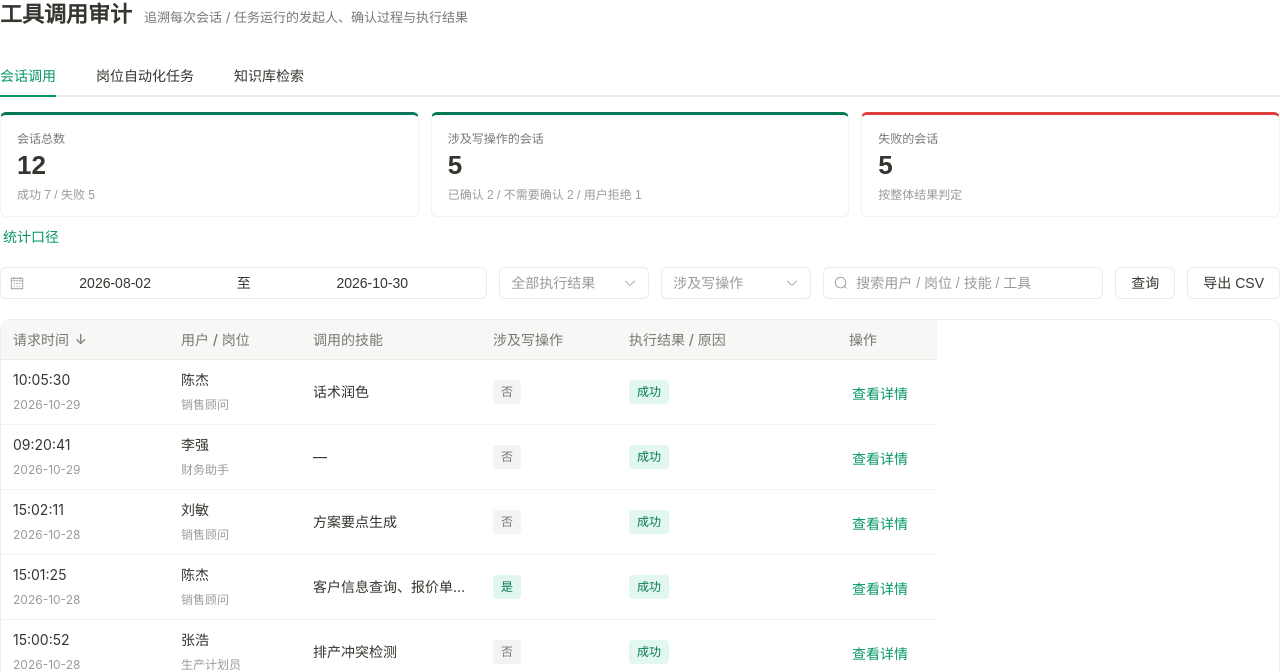
Scenario: 详情抽屉（§5.1 / §5.2 / §5.3） › 确认被用户拒绝的写操作（报销单提交）：不展示确认标签，由执行结果=失败 + 原因"用户取消本次操作"表达
This screenshot has width=1280, height=672.
Type "报销单提交" into the field with placeholder "搜索用户 / 岗位 / 技能 / 工具".
click(974, 283); type("报销单提交")  # box [856,268,1092,298]
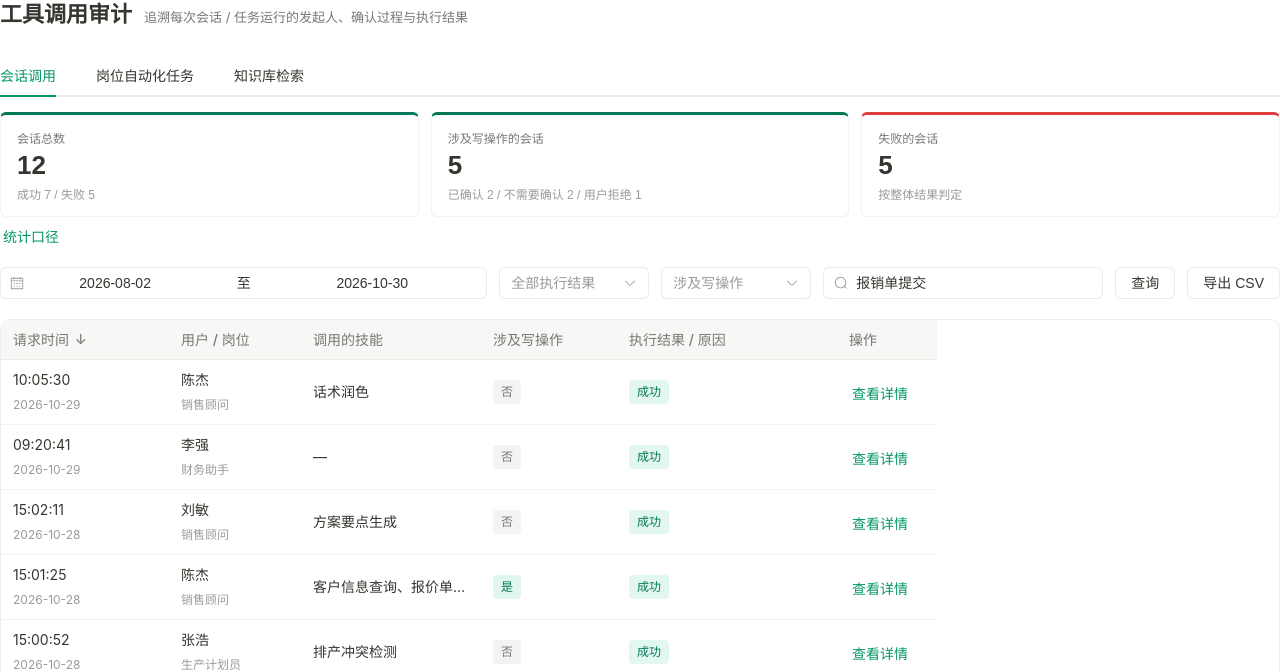
Press Enter in the field with placeholder "搜索用户 / 岗位 / 技能 / 工具", box [856,268,1092,298]
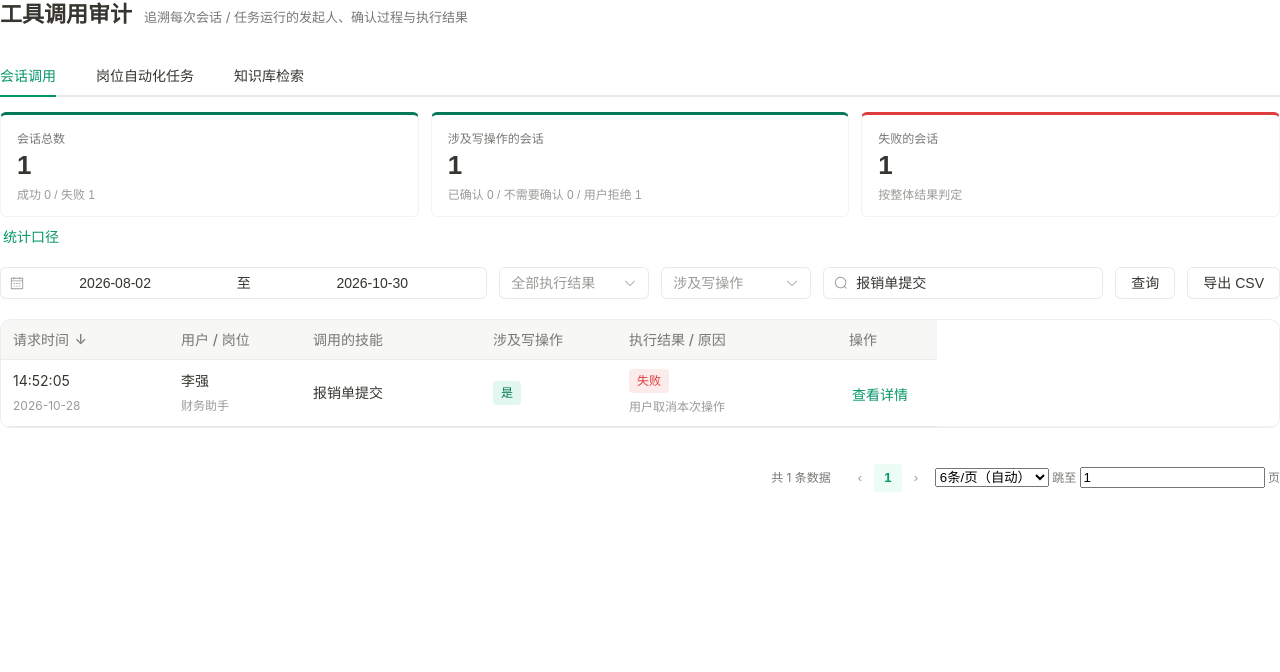
Click the button "查看详情".
click(880, 395)  # box [849,385,911,405]
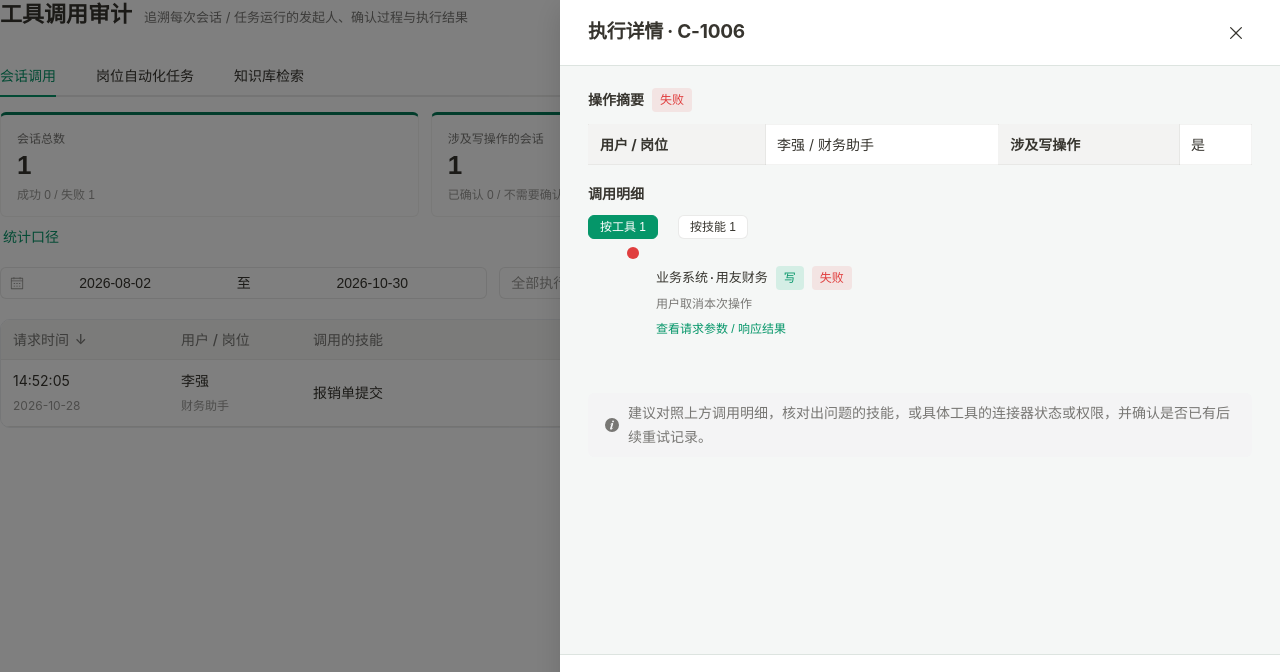
Expected: the element with class "call-item" does not show "不需要确认"
Result: the element with class "call-item" shows "失败" at [820,270,844,285]
Result: the element with class "call-item" shows "用户取消本次操作" at [656,296,752,311]
